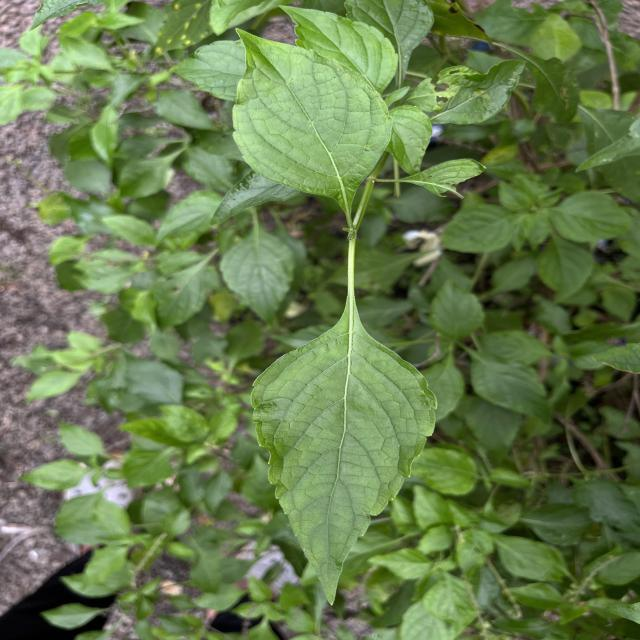Ocimum gratissimum: (247, 268, 439, 610), (228, 23, 397, 218), (273, 0, 404, 98)
